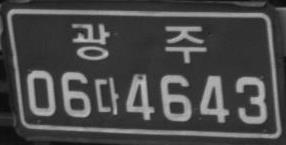0: (25, 68, 56, 117)
3: (234, 75, 269, 125)
4: (199, 74, 230, 123), (125, 72, 154, 120)
6: (159, 73, 193, 122), (60, 70, 91, 118)
광주_D: (72, 22, 207, 63)
다: (93, 76, 119, 115)
